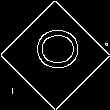O_W: (30, 34, 80, 76)
